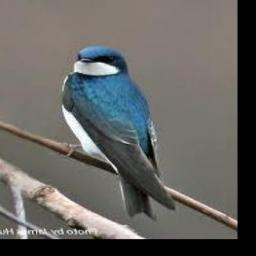Swallow: (60, 46, 178, 220)
